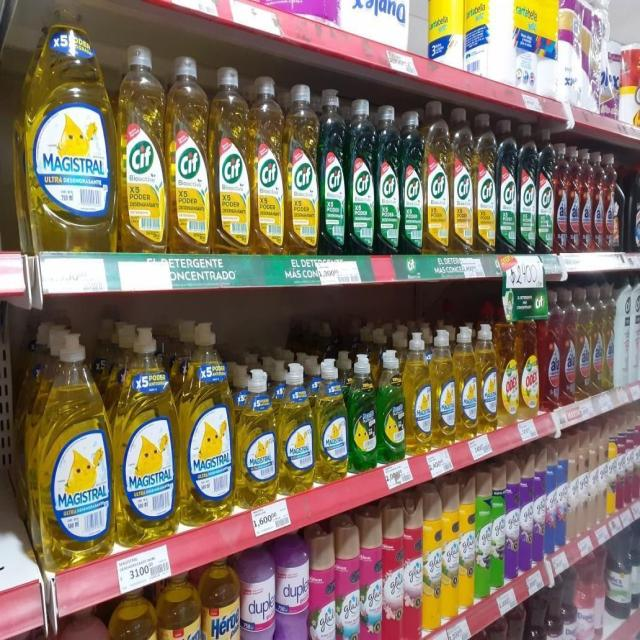ala_conc_amarillo: (577, 288, 590, 399), (591, 288, 603, 394), (604, 285, 614, 391)
ala_conc_rojo: (540, 292, 560, 411), (561, 288, 576, 404), (554, 141, 568, 254), (568, 145, 580, 254), (580, 148, 592, 254), (592, 151, 604, 252), (604, 152, 615, 252)
cif_conc_bot_amarilla: (15, 3, 115, 253), (118, 43, 165, 252), (167, 53, 209, 253), (210, 64, 250, 255), (251, 72, 284, 254), (285, 82, 318, 255), (424, 102, 450, 256), (450, 106, 473, 256), (474, 112, 496, 254)
cif_conc_botella_verde: (320, 87, 347, 255), (348, 97, 375, 256), (376, 103, 400, 255), (401, 107, 424, 256), (497, 117, 517, 255), (518, 122, 536, 255), (537, 128, 554, 254)
heroe: (276, 531, 309, 640), (241, 545, 275, 640), (202, 556, 240, 640), (158, 571, 202, 640), (111, 587, 157, 640), (58, 608, 111, 640)
magistral_con_amarillo: (33, 330, 112, 566), (115, 326, 178, 544), (180, 321, 234, 525), (236, 367, 277, 508), (279, 362, 314, 494), (316, 358, 348, 483), (406, 332, 431, 454), (432, 328, 455, 446), (456, 326, 477, 440), (478, 322, 498, 432)
magistral_con_azul: (629, 162, 640, 253)
odex: (498, 310, 518, 426), (520, 307, 539, 417)
